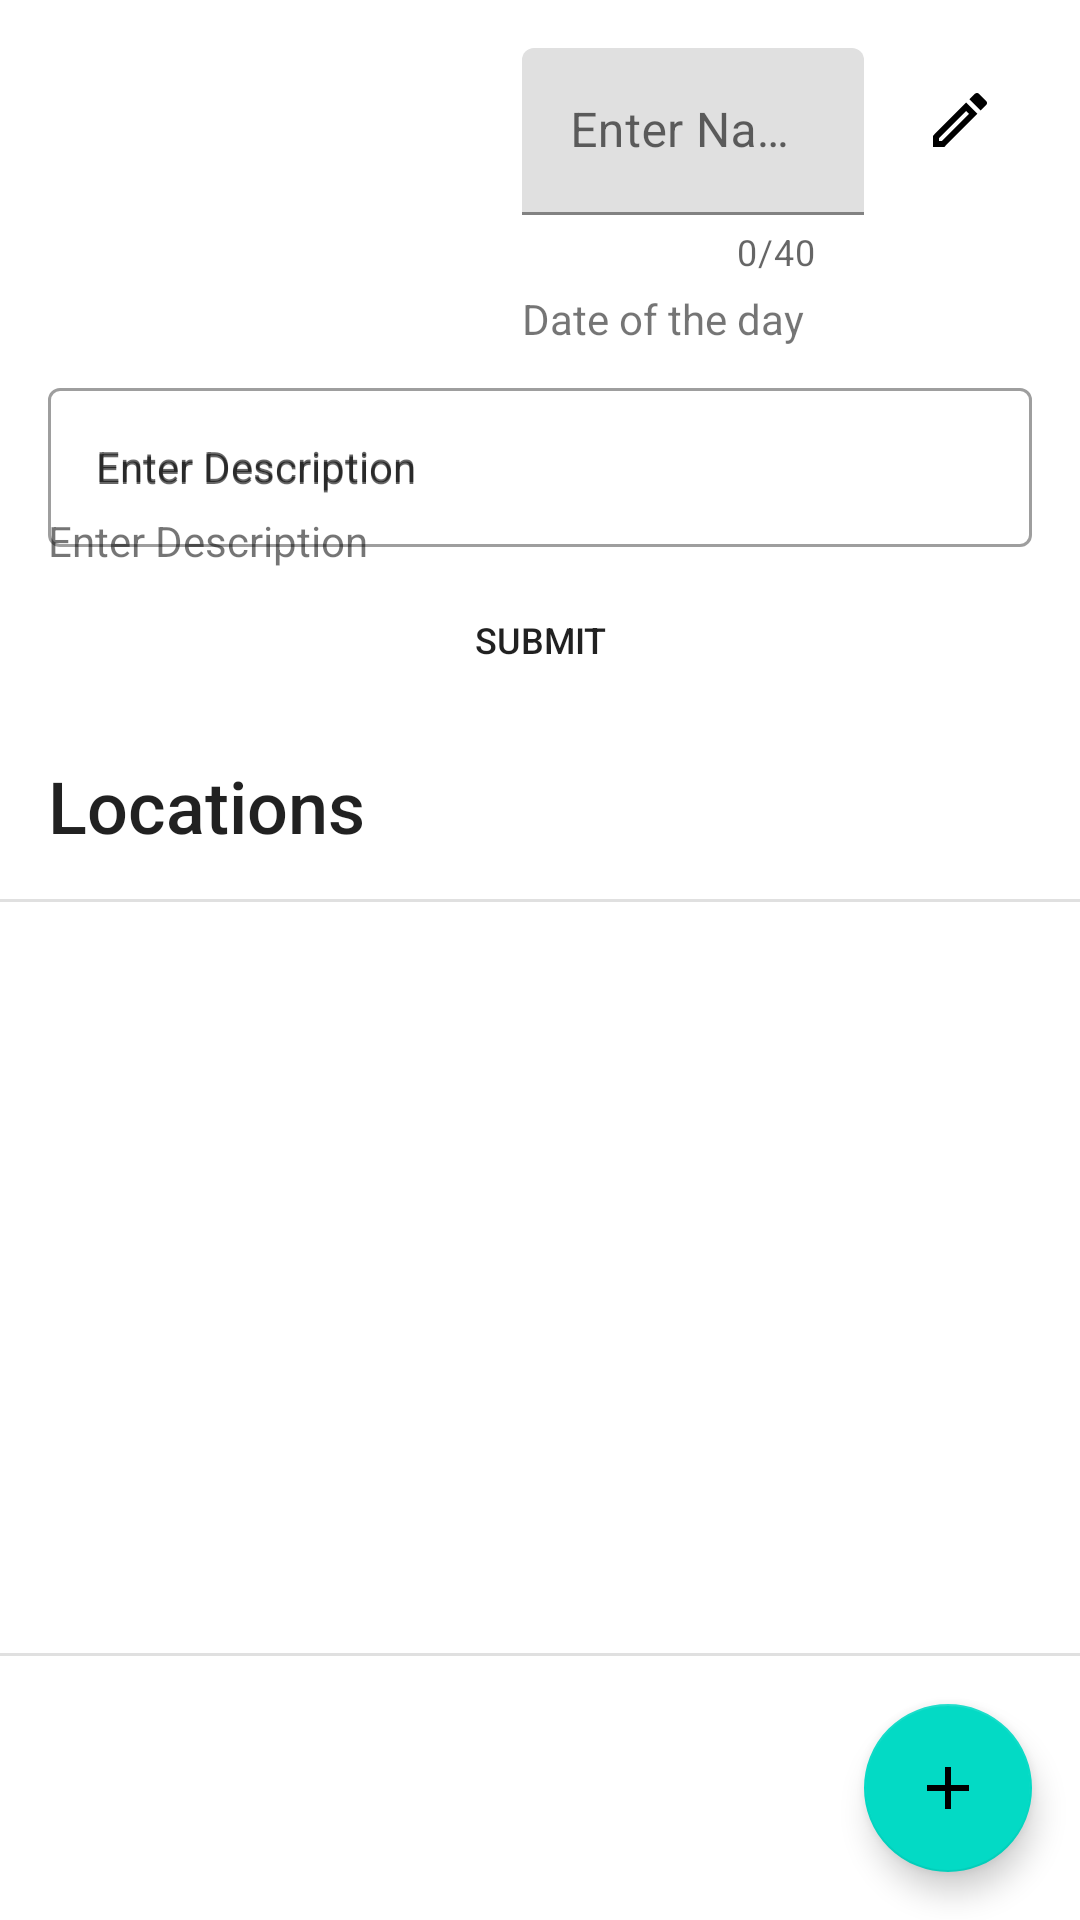

Icon click points for this 1080*1920 phone screenshot, format (x=x, y=y):
Add Location: (x=948, y=1788)
Edit: (x=960, y=120)
